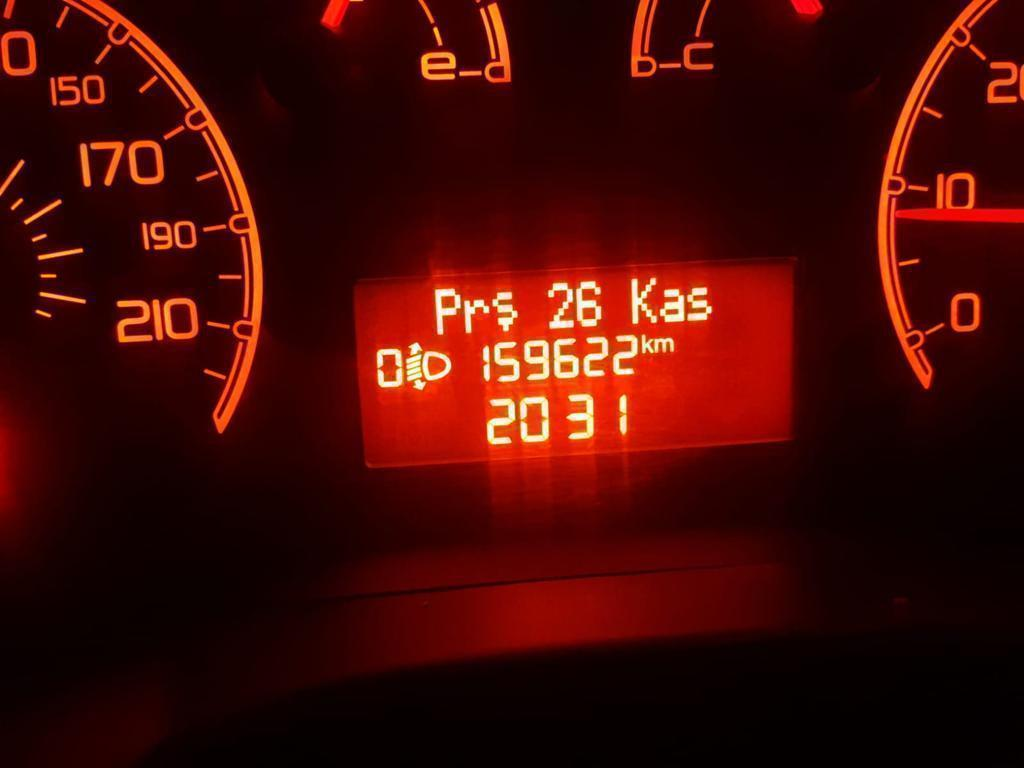0: (519, 395, 550, 443), (376, 347, 403, 388)
1: (617, 393, 628, 436), (481, 344, 491, 383)
2: (486, 397, 516, 445), (547, 281, 575, 329), (611, 334, 638, 376), (583, 336, 609, 377)
3: (564, 393, 595, 439)
5: (493, 341, 520, 382)
6: (575, 280, 602, 327), (552, 337, 579, 380)
9: (522, 339, 550, 380)
X: (433, 287, 461, 336), (630, 277, 657, 325), (492, 290, 518, 332), (686, 286, 713, 321), (463, 299, 489, 335), (659, 288, 685, 322), (653, 337, 674, 353), (641, 334, 653, 353)
odometer: (347, 252, 801, 475)
